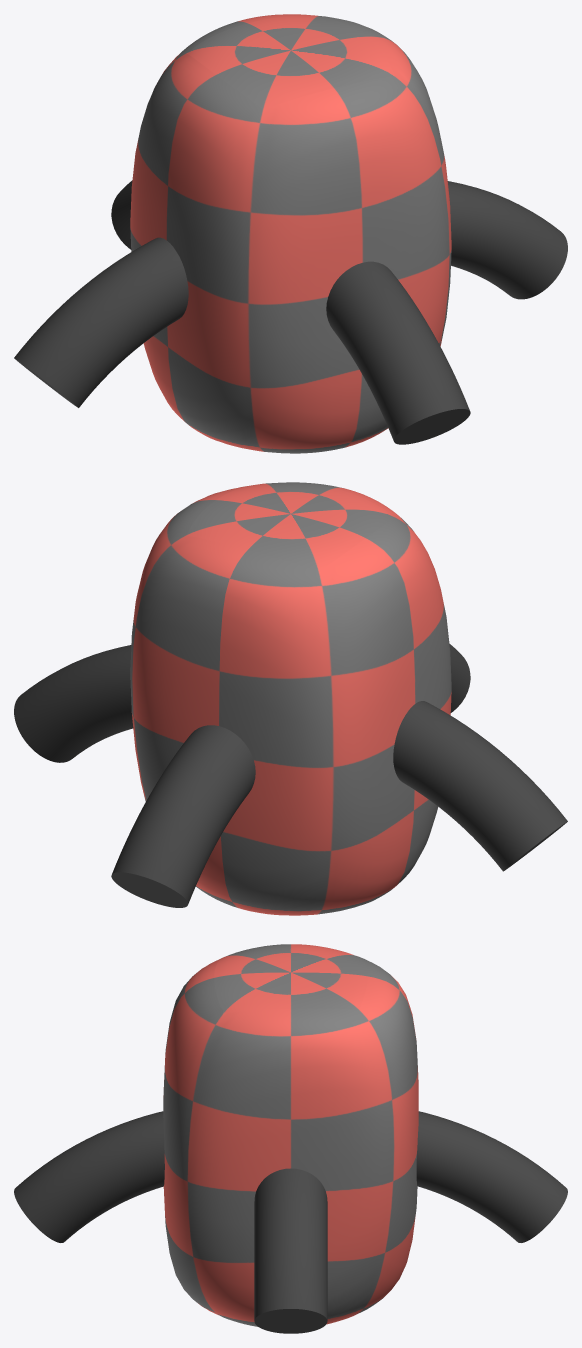
File: Body(Oblong)+Colour(More_Red)+Pattern(Checkered)+Arm_Angle(Bent_Down).fbx
The picture shows the model from 3 angles, top to bottom: view 1: azimuth 30°, elevation 25°; view 2: azimuth 150°, elevation 25°; view 3: azimuth 270°, elevation 25°; orthographic projection. The views are drawn at different scales.
Visible parts, largest first — view 1: Body(Oblong)+Colour(More_Red)+Pattern(Checkered)+Arm_Angle(B (×5); view 2: Body(Oblong)+Colour(More_Red)+Pattern(Checkered)+Arm_Angle(B (×5); view 3: Body(Oblong)+Colour(More_Red)+Pattern(Checkered)+Arm_Angle(B (×4).
Boxes of the visible parts, x1,y1,x2,y2 form: Body(Oblong)+Colour(More_Red)+Pattern(Checkered)+Arm_Angle(B (×5): [14, 14, 567, 453]; Body(Oblong)+Colour(More_Red)+Pattern(Checkered)+Arm_Angle(B (×5): [14, 482, 567, 915]; Body(Oblong)+Colour(More_Red)+Pattern(Checkered)+Arm_Angle(B (×4): [14, 944, 567, 1333].
Bounding box in the file's own units: 60.67 × 40 × 60.67.
2 materials, 2 textured.
